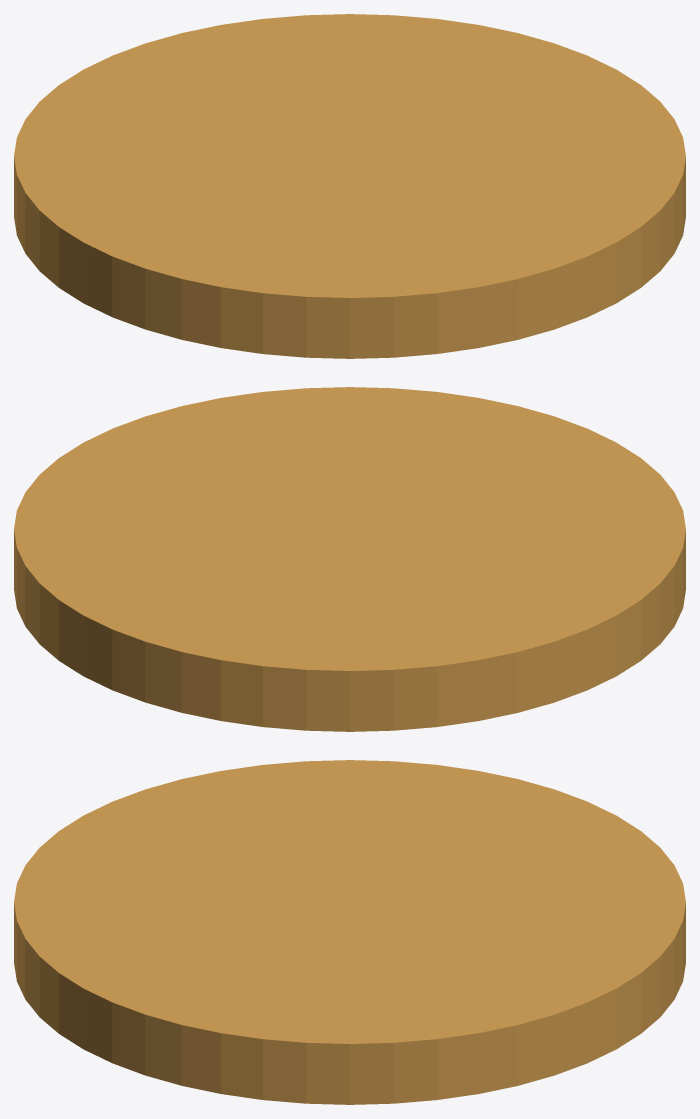
The picture shows the model from 3 angles, top to bottom: view 1: azimuth 30°, elevation 25°; view 2: azimuth 150°, elevation 25°; view 3: azimuth 270°, elevation 25°; orthographic projection.
Visible parts, largest first — view 1: Mesh_Mesh_head_geo.001_lambert2SG.001; view 2: Mesh_Mesh_head_geo.001_lambert2SG.001; view 3: Mesh_Mesh_head_geo.001_lambert2SG.001.
Boxes of the visible parts, x1=… form: Mesh_Mesh_head_geo.001_lambert2SG.001: x1=14, y1=14, x2=685, y2=358; Mesh_Mesh_head_geo.001_lambert2SG.001: x1=14, y1=387, x2=685, y2=731; Mesh_Mesh_head_geo.001_lambert2SG.001: x1=14, y1=760, x2=685, y2=1104.
Size of the model in its own units: 0.1 by 0.01 by 0.1.
